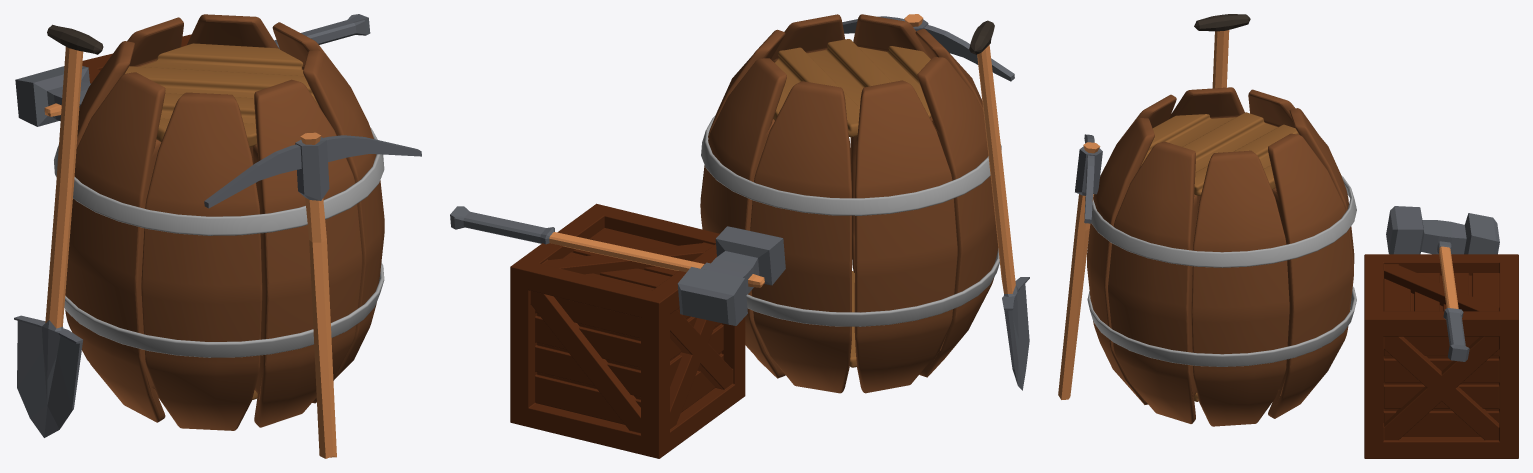
File: barriles1.fbx
3 views of the same model, side by side, from view 1: azimuth 30°, elevation 25°; view 2: azimuth 150°, elevation 25°; view 3: azimuth 270°, elevation 25° (orthographic). The views are drawn at different scales.
Visible parts, largest first — view 1: pickaxe v:83 f:83.001; view 2: pickaxe v:83 f:83.001; view 3: pickaxe v:83 f:83.001.
Boxes of the visible parts, x1=… form: pickaxe v:83 f:83.001: x1=14, y1=14, x2=421, y2=458; pickaxe v:83 f:83.001: x1=450, y1=14, x2=1029, y2=458; pickaxe v:83 f:83.001: x1=1058, y1=14, x2=1518, y2=458.
Size of the model in its own units: 431 by 335 by 438.
